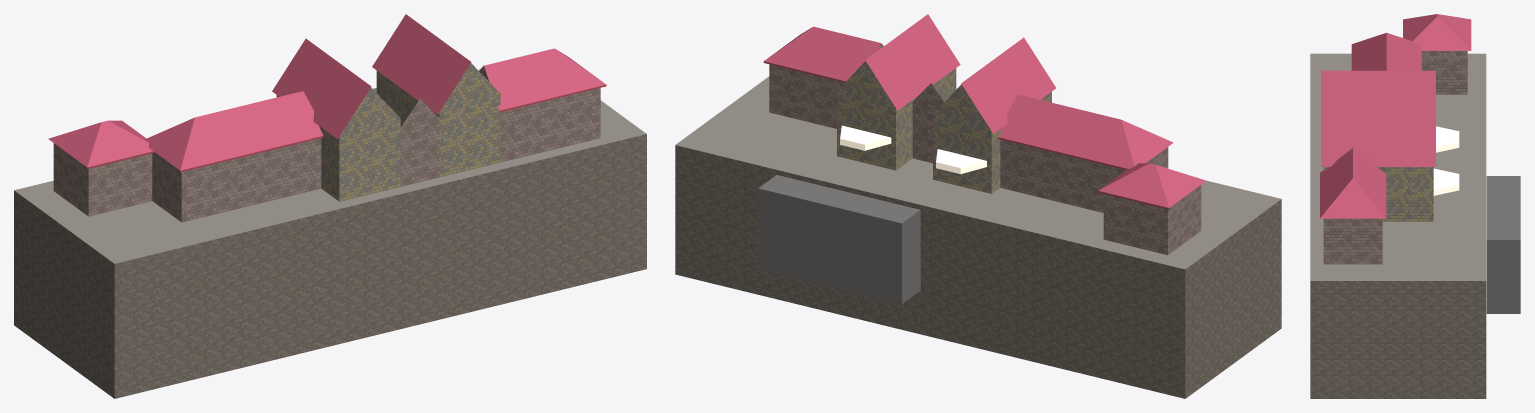
The model's file is murree_gpo_far.glb.
3 views of the same model, side by side, from view 1: azimuth 30°, elevation 25°; view 2: azimuth 150°, elevation 25°; view 3: azimuth 270°, elevation 25° (orthographic). The views are drawn at different scales.
Visible parts, largest first — view 1: m_gpo_skirt_stone, m_gpo_roof_red, m_gpo_wing_stone, m_gpo_terrace, m_gpo_stone, m_gpo_awning_red; view 2: m_gpo_skirt_stone, m_gpo_roof_red, m_gpo_terrace, m_gpo_step_grey, m_gpo_wing_stone, m_gpo_stone, m_gpo_white, m_gpo_awning_red; view 3: m_gpo_skirt_stone, m_gpo_roof_red, m_gpo_terrace, m_gpo_step_grey, m_gpo_wing_stone, m_gpo_stone, m_gpo_white.
Boxes of the visible parts, box(x1,y1,x2,y2) form: m_gpo_skirt_stone: box(14, 134, 646, 398); m_gpo_roof_red: box(48, 14, 605, 170); m_gpo_wing_stone: box(53, 66, 600, 222); m_gpo_terrace: box(14, 100, 646, 263); m_gpo_stone: box(276, 63, 500, 201); m_gpo_awning_red: box(87, 84, 606, 172); m_gpo_skirt_stone: box(675, 145, 1281, 398); m_gpo_roof_red: box(764, 14, 1206, 207); m_gpo_terrace: box(676, 76, 1281, 269); m_gpo_step_grey: box(758, 175, 920, 304); m_gpo_wing_stone: box(769, 43, 1201, 255); m_gpo_stone: box(837, 61, 1051, 193); m_gpo_white: box(840, 44, 986, 174); m_gpo_awning_red: box(763, 61, 1169, 209); m_gpo_skirt_stone: box(1310, 281, 1486, 398); m_gpo_roof_red: box(1320, 14, 1471, 218); m_gpo_terrace: box(1310, 53, 1486, 280); m_gpo_step_grey: box(1486, 176, 1520, 313); m_gpo_wing_stone: box(1323, 51, 1467, 264); m_gpo_stone: box(1323, 167, 1433, 221); m_gpo_white: box(1433, 126, 1459, 195).
Size of the model in its own units: 66 by 28.9 by 25.78.
8 materials, 3 textured.
